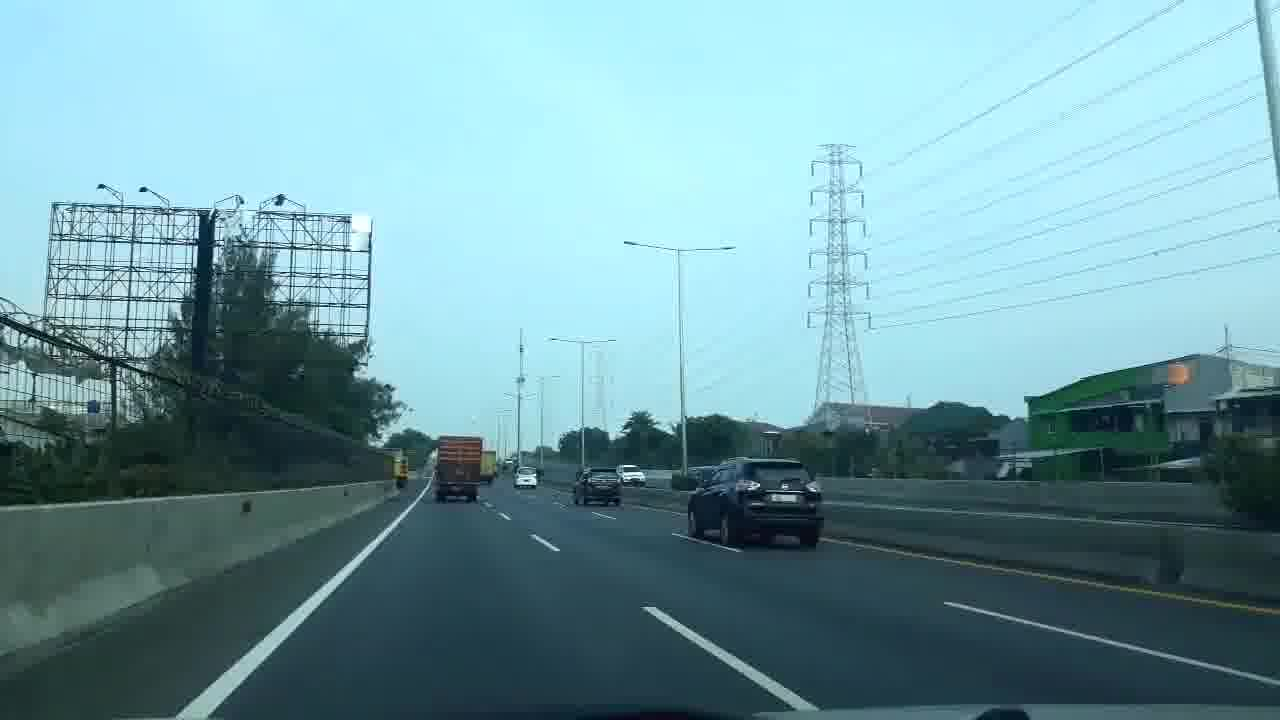plate_positive: (770, 493, 798, 502)
